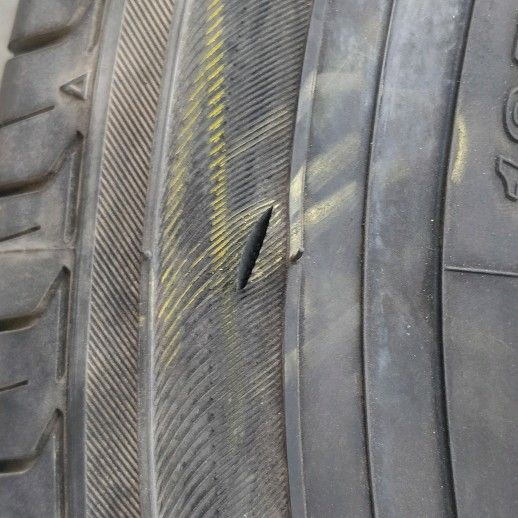cut: (234, 201, 276, 298)
